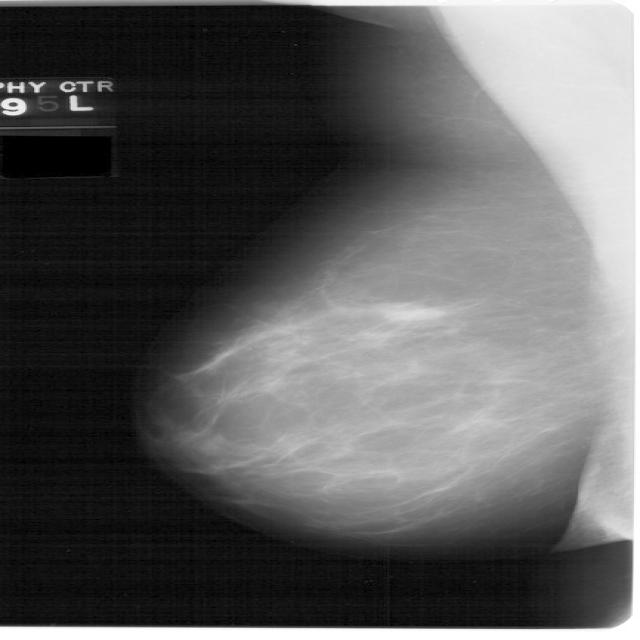tumour: (371, 304, 446, 320)
